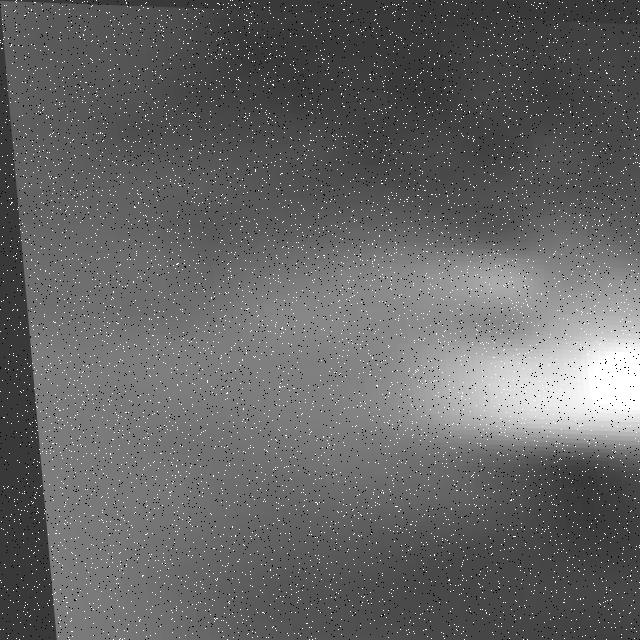person: (163, 210, 640, 464)
